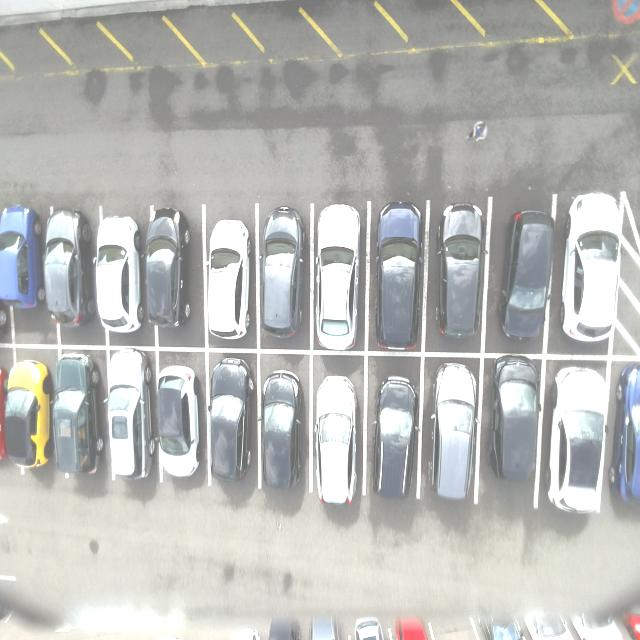car: (565, 185, 623, 354), (548, 370, 608, 518), (503, 210, 559, 349), (437, 199, 488, 351), (373, 202, 423, 355), (428, 363, 479, 507), (315, 206, 365, 352), (105, 347, 157, 484), (51, 347, 104, 477), (313, 372, 362, 510), (260, 209, 309, 343), (45, 207, 96, 334), (207, 353, 257, 482), (492, 356, 543, 481), (205, 215, 253, 342), (146, 210, 197, 329), (95, 217, 146, 335), (373, 371, 419, 501), (6, 352, 53, 474), (262, 368, 306, 496), (157, 365, 203, 482), (2, 206, 46, 313)
